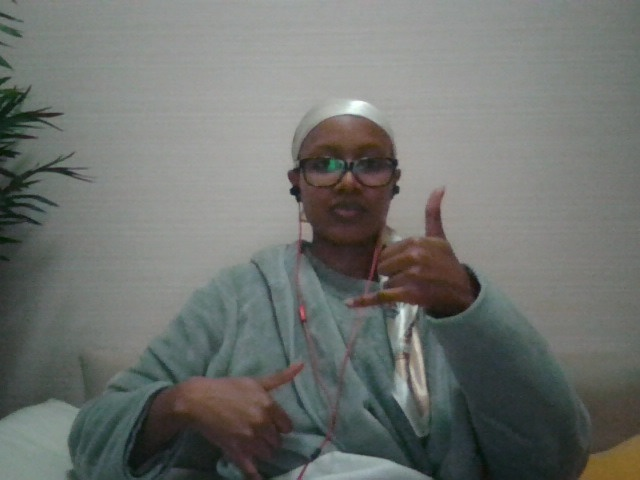callme: (337, 182, 487, 325)
